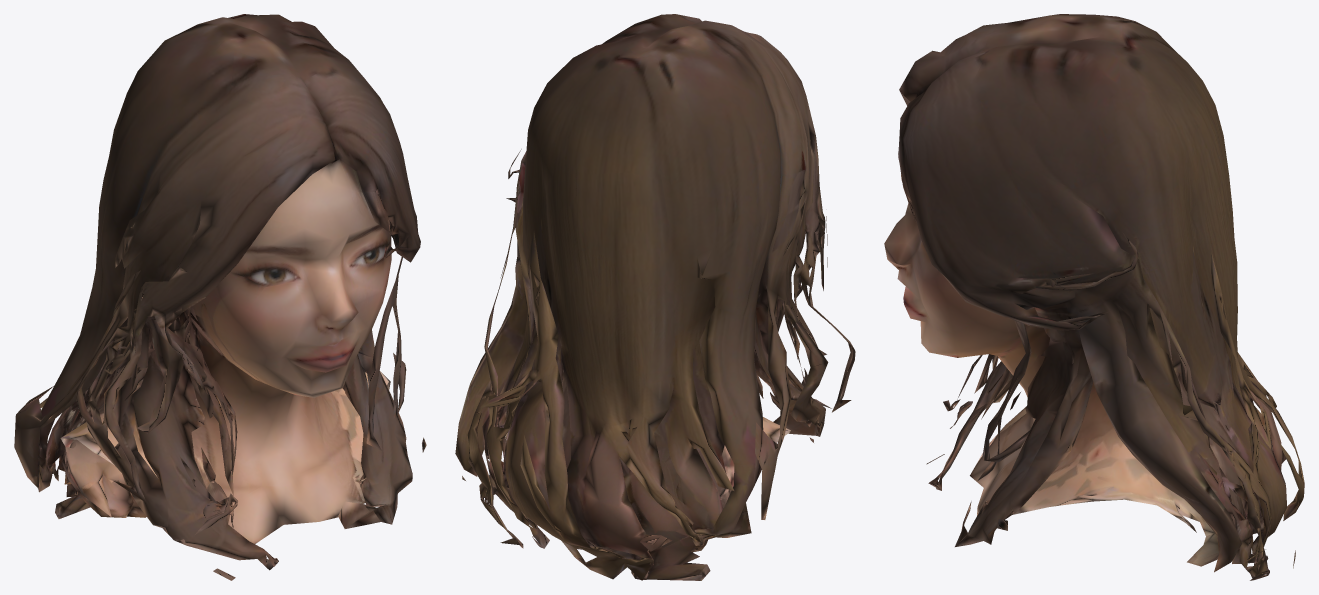
3 views of the same model, side by side, from view 1: azimuth 30°, elevation 25°; view 2: azimuth 150°, elevation 25°; view 3: azimuth 270°, elevation 25° (orthographic). The views are drawn at different scales.
Size of the model in its own units: 1.32 by 1.98 by 1.4.
Materials: 1 (1 with a texture image).
